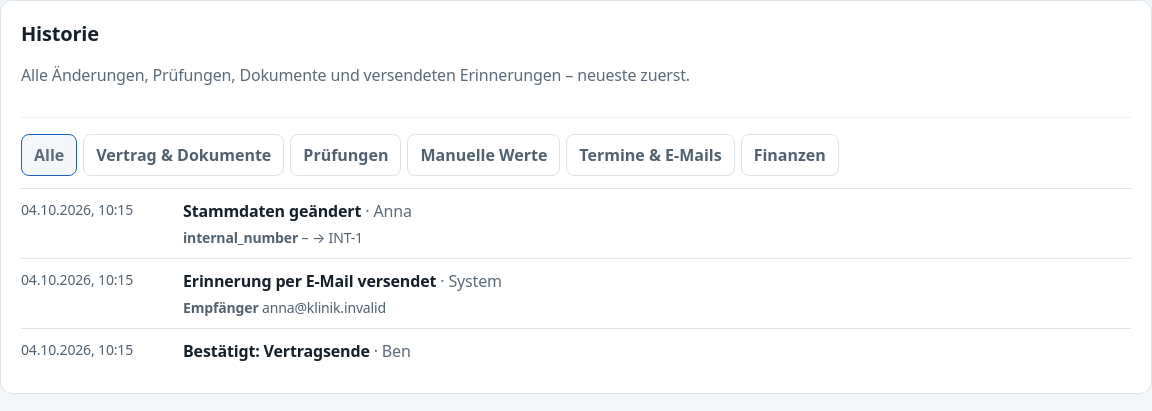
Test: Vertragshistorie › zeigt alle Spuren mit Änderungsdetails und filtert nach Bereich
Expected: the text "Stammdaten geändert" is shown, [183, 200, 361, 222]
Expected: the text "Erinnerung per E-Mail versendet" is shown, [183, 270, 436, 292]
Step 1. Click the button "Prüfungen" → (346, 155), box [290, 134, 401, 176]
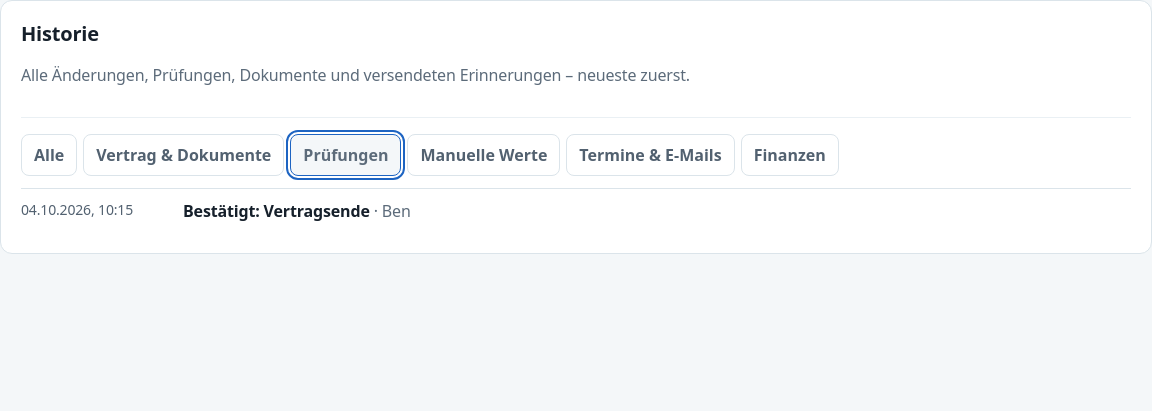
Expected: the text "Bestätigt: Vertragsende" is shown, [183, 200, 370, 222]
Expected: the text "Stammdaten geändert" is gone
